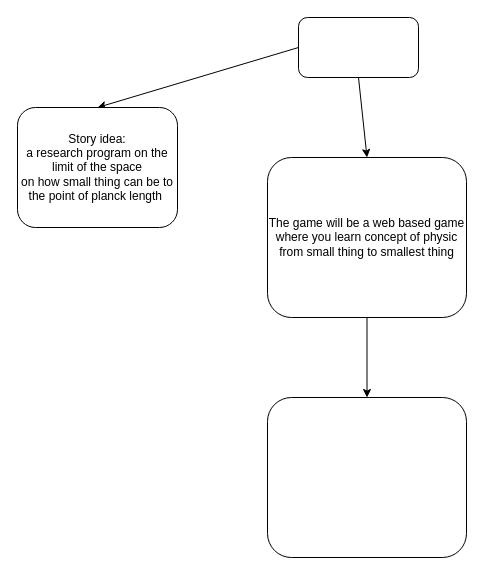
The diagram is 484 pixels wide and 575 high, and some of its shapes have lost their labels. The centre of each missing label's shape, as x and y in pixels:
Theme: limited space: the point at 358,47
you start on a large website which reduce in size for each " puzzle you solve": the point at 366,477
